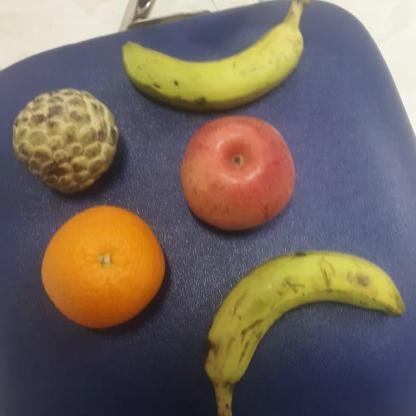annona: (10, 87, 123, 195)
apple: (180, 114, 297, 230)
banana: (202, 248, 406, 388), (122, 13, 303, 116)
orange: (37, 204, 170, 328)
